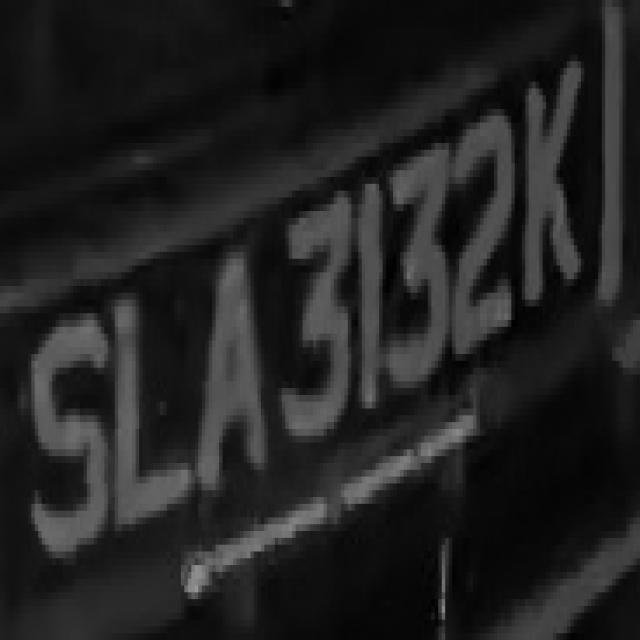1: (338, 157, 397, 463)
2: (442, 109, 518, 381)
3: (268, 177, 348, 449), (382, 136, 448, 409)
A: (188, 232, 278, 518)
K: (515, 34, 588, 327)
L: (97, 265, 195, 538)
S: (24, 293, 111, 551)
